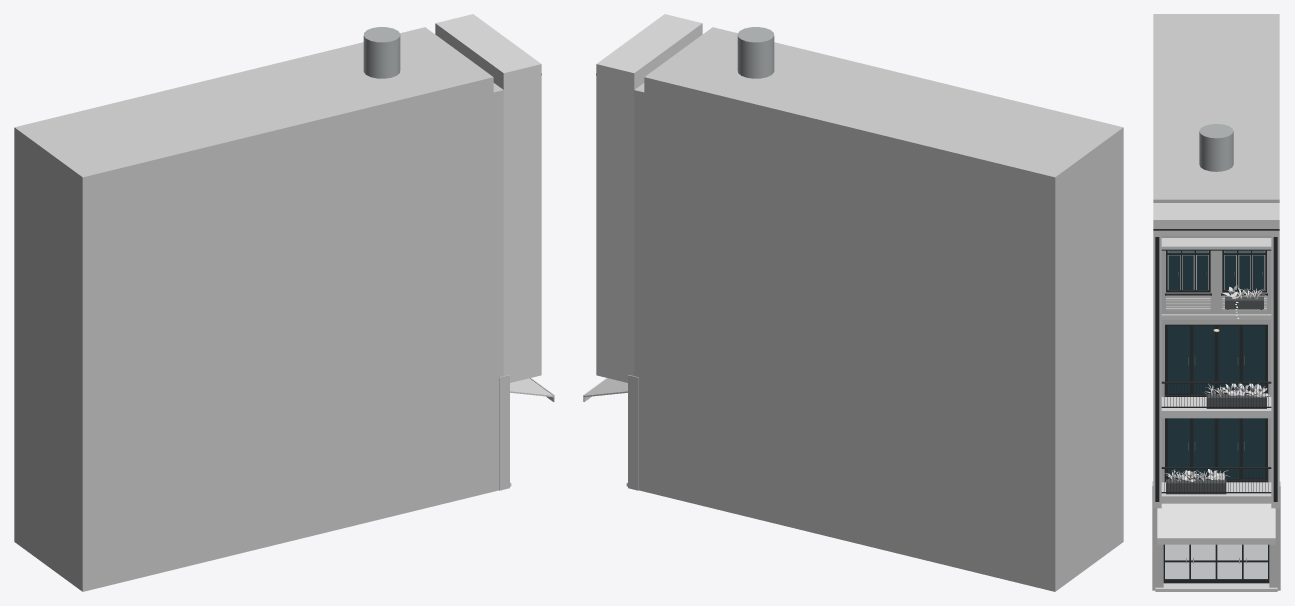
The model's file is OW_Mau_NhaPho_4_5_1.fbx.
3 views of the same model, side by side, from view 1: azimuth 30°, elevation 25°; view 2: azimuth 150°, elevation 25°; view 3: azimuth 270°, elevation 25° (orthographic). The views are drawn at different scales.
Visible parts, largest first — view 1: OW_NhaPho_9002; view 2: OW_NhaPho_9002; view 3: OW_NhaPho_9002, OW_MatTienKinh.
Part boxes in pixels (x1=…): OW_NhaPho_9002: x1=14, y1=14, x2=554, y2=591; OW_NhaPho_9002: x1=583, y1=14, x2=1123, y2=591; OW_NhaPho_9002: x1=1152, y1=14, x2=1280, y2=591; OW_MatTienKinh: x1=1163, y1=544, x2=1269, y2=583.
Size of the model in its own units: 17.77 by 16.15 by 4.5.
